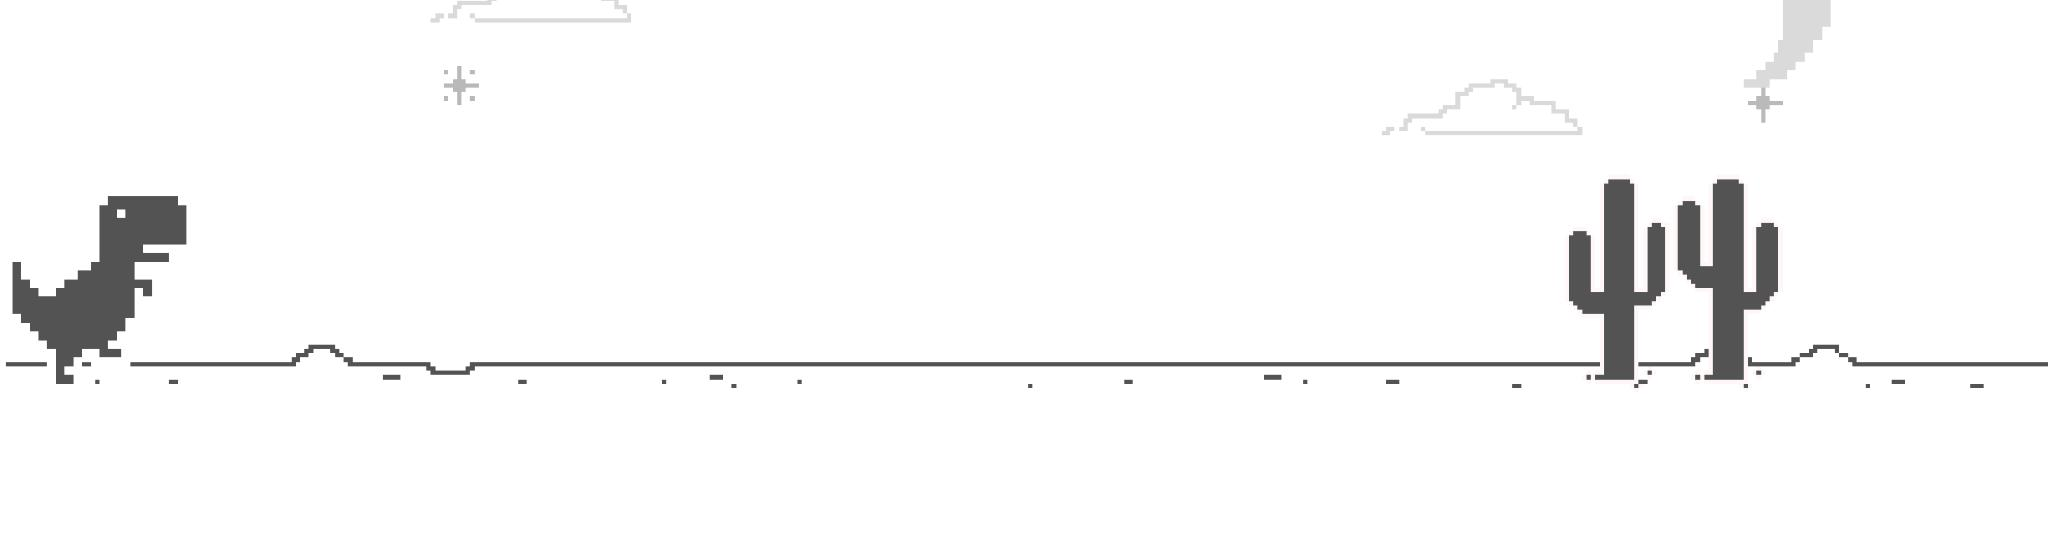6: (8, 188, 192, 388)
pterodactyl: (1561, 170, 1785, 393)
